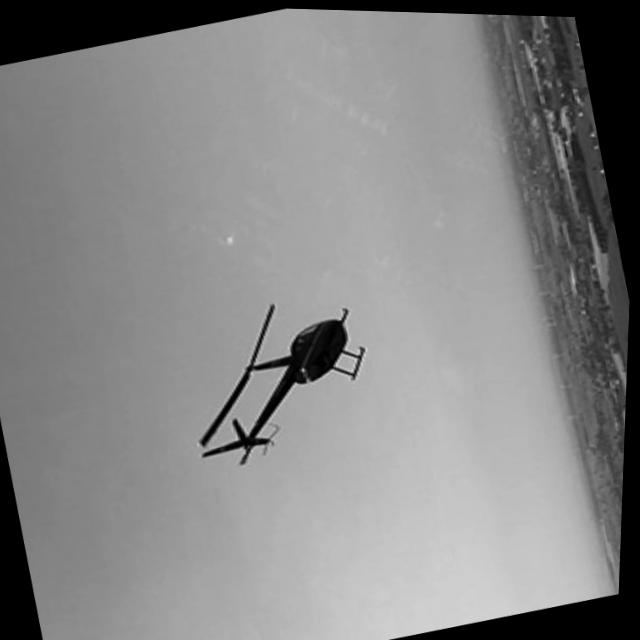helikopter: (163, 251, 421, 485)
